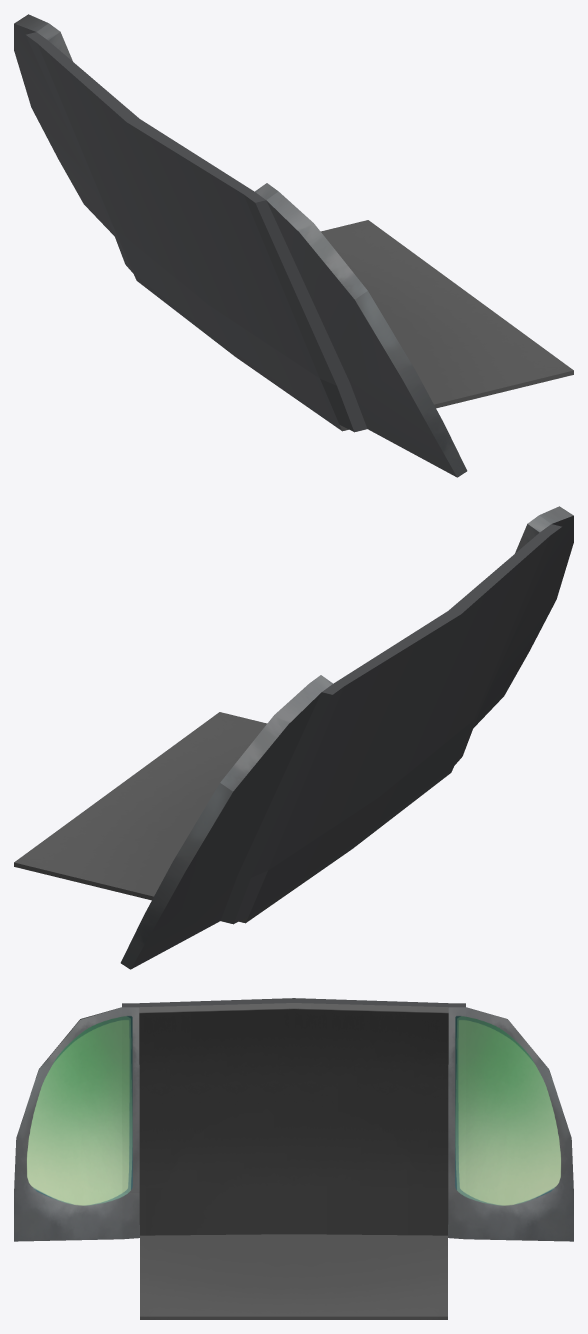
The model's file is stage_door.fbx.
3 views of the same model, one above another, from view 1: azimuth 30°, elevation 25°; view 2: azimuth 150°, elevation 25°; view 3: azimuth 270°, elevation 25° (orthographic). The views are drawn at different scales.
Parts seen in each view (by area): view 1: door; view 2: door; view 3: door.
Part boxes in pixels (box(x1,y1,x2,y2)): door: box(14, 14, 573, 477); door: box(14, 506, 573, 969); door: box(14, 998, 573, 1319).
Size of the model in its own units: 518 by 384 by 973.
